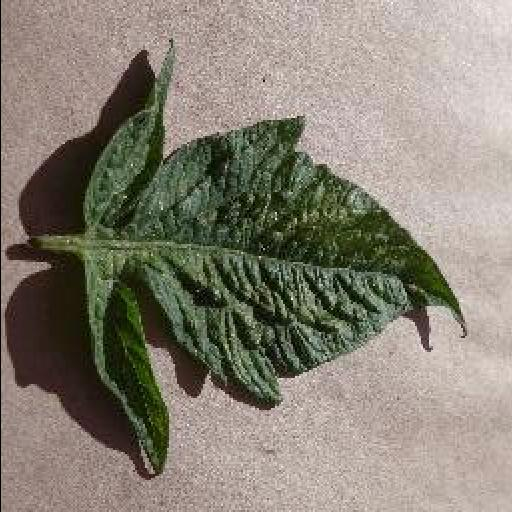disease_tomato: (81, 46, 467, 472)
